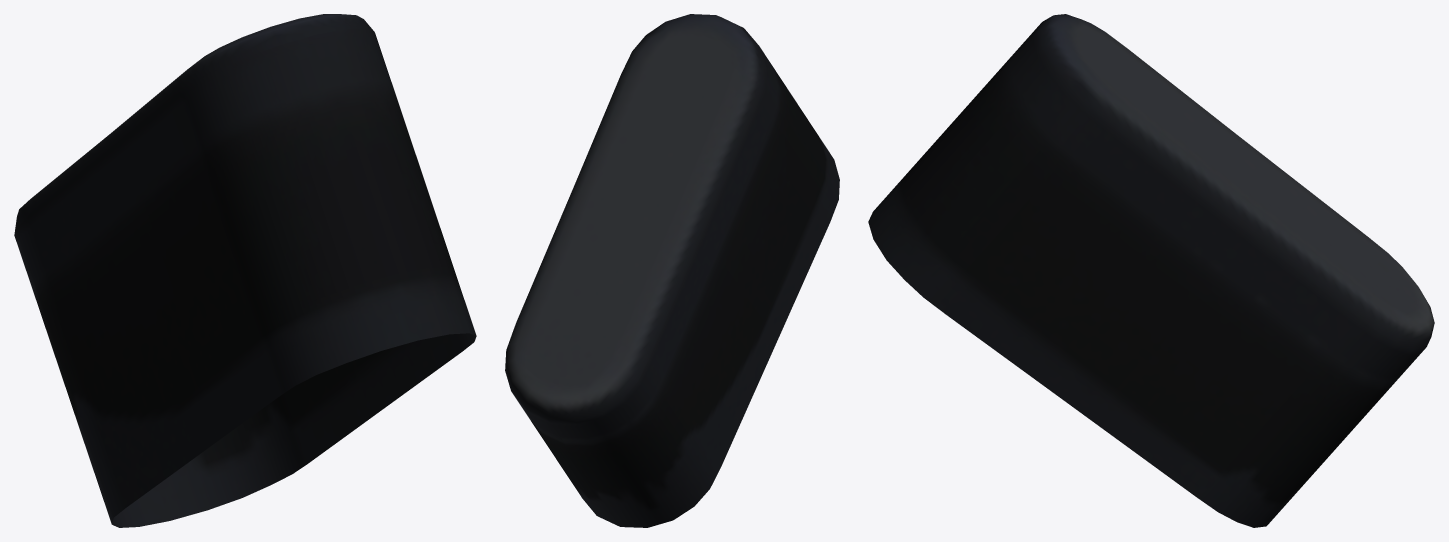
Rendered from playstation_vr2_sense_left_create.obj.
3 views of the same model, side by side, from view 1: azimuth 30°, elevation 25°; view 2: azimuth 150°, elevation 25°; view 3: azimuth 270°, elevation 25° (orthographic). The views are drawn at different scales.
Visible parts, largest first — view 1: mesh_create_button_L; view 2: mesh_create_button_L; view 3: mesh_create_button_L.
Part boxes in pixels (left/top/right/bottom): mesh_create_button_L: left=14, top=14, right=476, bottom=527; mesh_create_button_L: left=505, top=14, right=839, bottom=527; mesh_create_button_L: left=868, top=14, right=1434, bottom=527.
Bounding box in the file's own units: 0.00319 × 0.00982 × 0.0102.
1 material, 1 textured.
